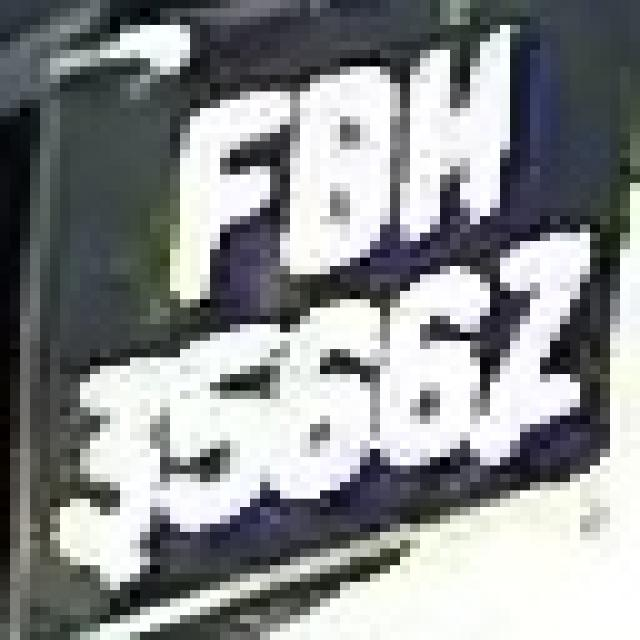3: (60, 316, 160, 590)
5: (150, 307, 250, 557)
6: (350, 258, 480, 490), (270, 299, 380, 524)
B: (260, 41, 390, 258)
F: (130, 83, 280, 316)
H: (380, 8, 530, 258)
Z: (480, 216, 590, 457)
